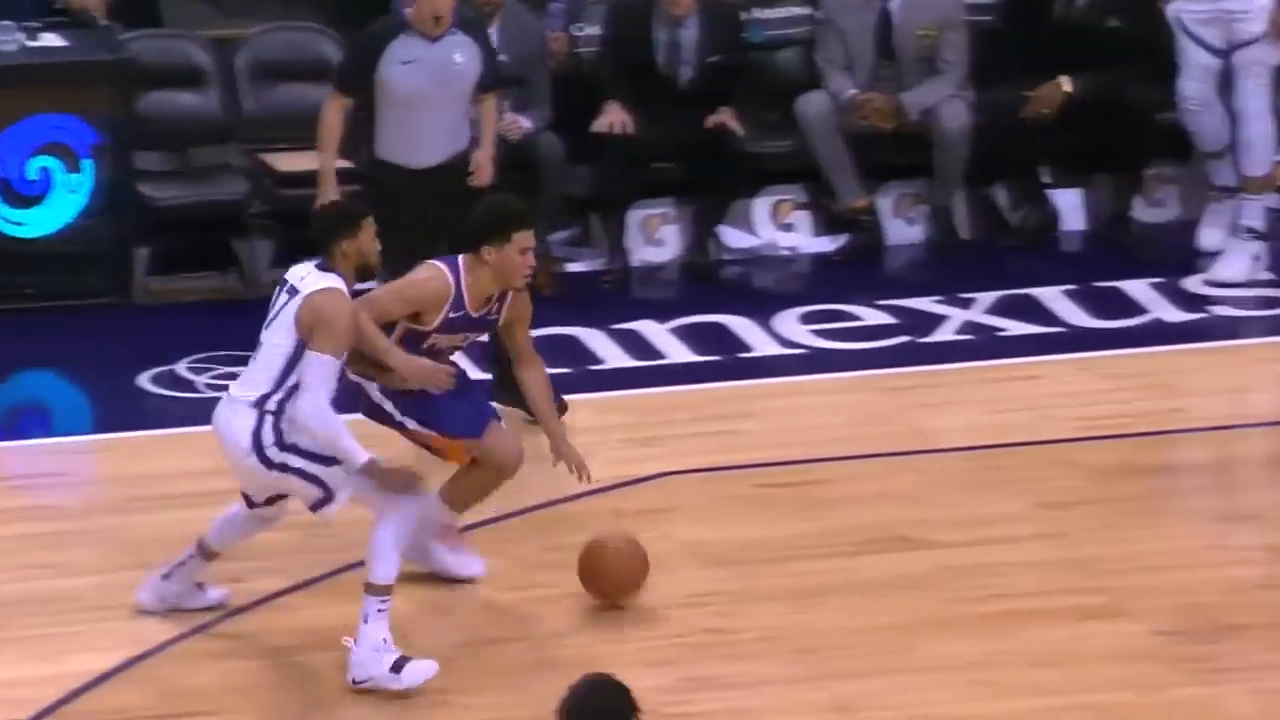ball: (576, 537, 653, 604)
